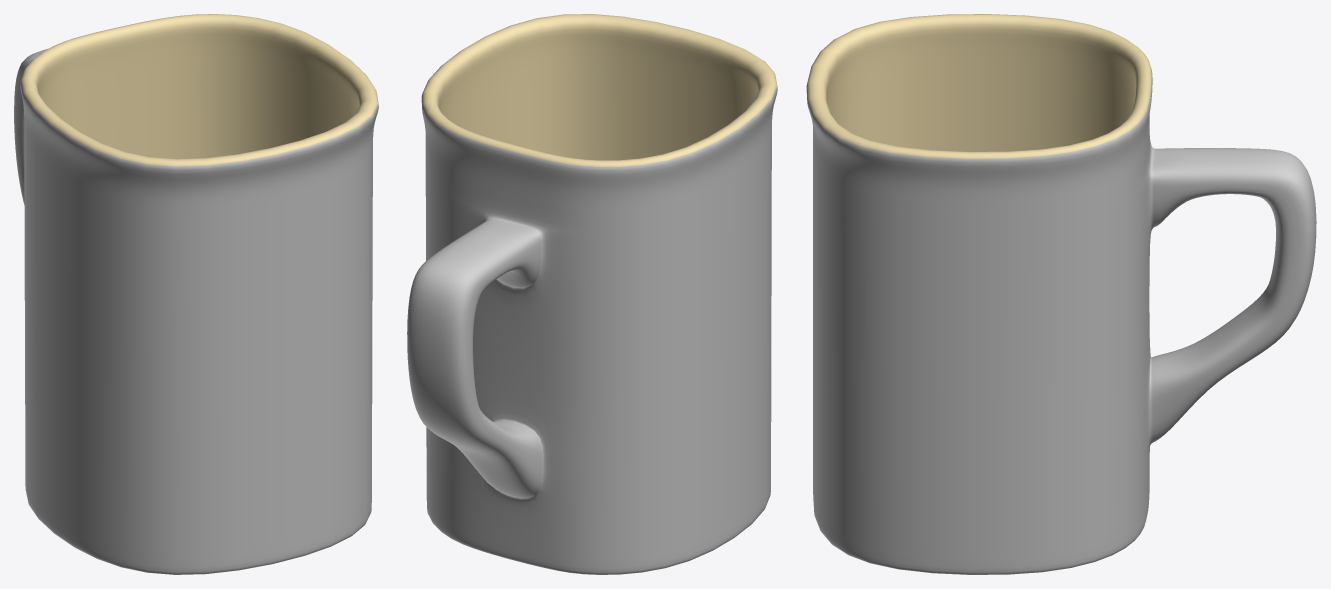
The model's file is Mug.glb.
3 renders of one model, left to right at view 1: azimuth 30°, elevation 25°; view 2: azimuth 150°, elevation 25°; view 3: azimuth 270°, elevation 25°, orthographic. The views are drawn at different scales.
Visible parts, largest first — view 1: mug.1; view 2: mug.1; view 3: mug.1.
Part boxes in pixels (x1=…): mug.1: x1=14, y1=14, x2=378, y2=574; mug.1: x1=407, y1=14, x2=777, y2=574; mug.1: x1=806, y1=14, x2=1316, y2=574.
Bounding box in the file's own units: 6.84 × 9.33 × 10.21.
